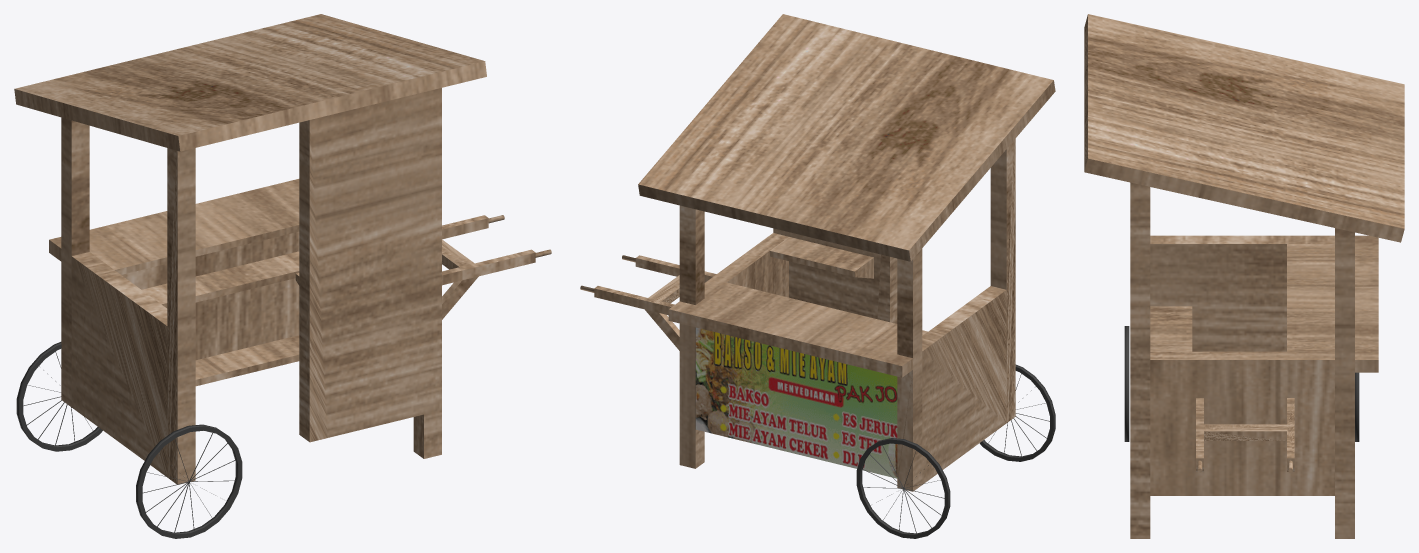
The model's file is gerobak_1.fbx.
3 views of the same model, side by side, from view 1: azimuth 30°, elevation 25°; view 2: azimuth 150°, elevation 25°; view 3: azimuth 270°, elevation 25° (orthographic). The views are drawn at different scales.
Parts seen in each view (by area): view 1: agerobak; view 2: agerobak; view 3: agerobak.
Boxes of the visible parts, <box> form: agerobak: <box>14,14,551,538</box>; agerobak: <box>580,14,1055,538</box>; agerobak: <box>1084,14,1404,538</box>.
Size of the model in its own units: 274 by 246 by 175.
